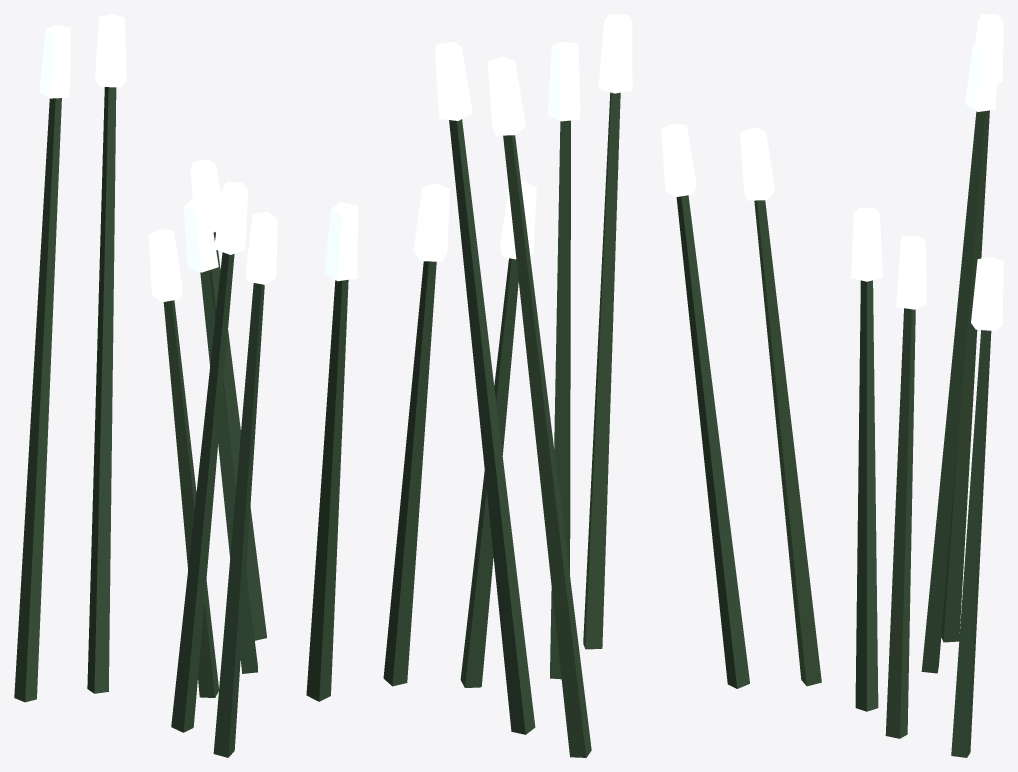
Rendered from glow_reeds.glb.
3 renders of one model, left to right at view 1: azimuth 30°, elevation 25°; view 2: azimuth 150°, elevation 25°; view 3: azimuth 270°, elevation 25°, orthographic. The views are drawn at different scales.
Parts seen in each view (by area): view 1: glow_reeds; view 2: glow_reeds; view 3: glow_reeds.
Boxes of the visible parts, bbox=[...] form: glow_reeds: bbox=[14, 14, 277, 757]; glow_reeds: bbox=[306, 14, 632, 757]; glow_reeds: bbox=[661, 14, 1003, 757].
Size of the model in its own units: 0.3871 by 0.9383 by 0.4499.
